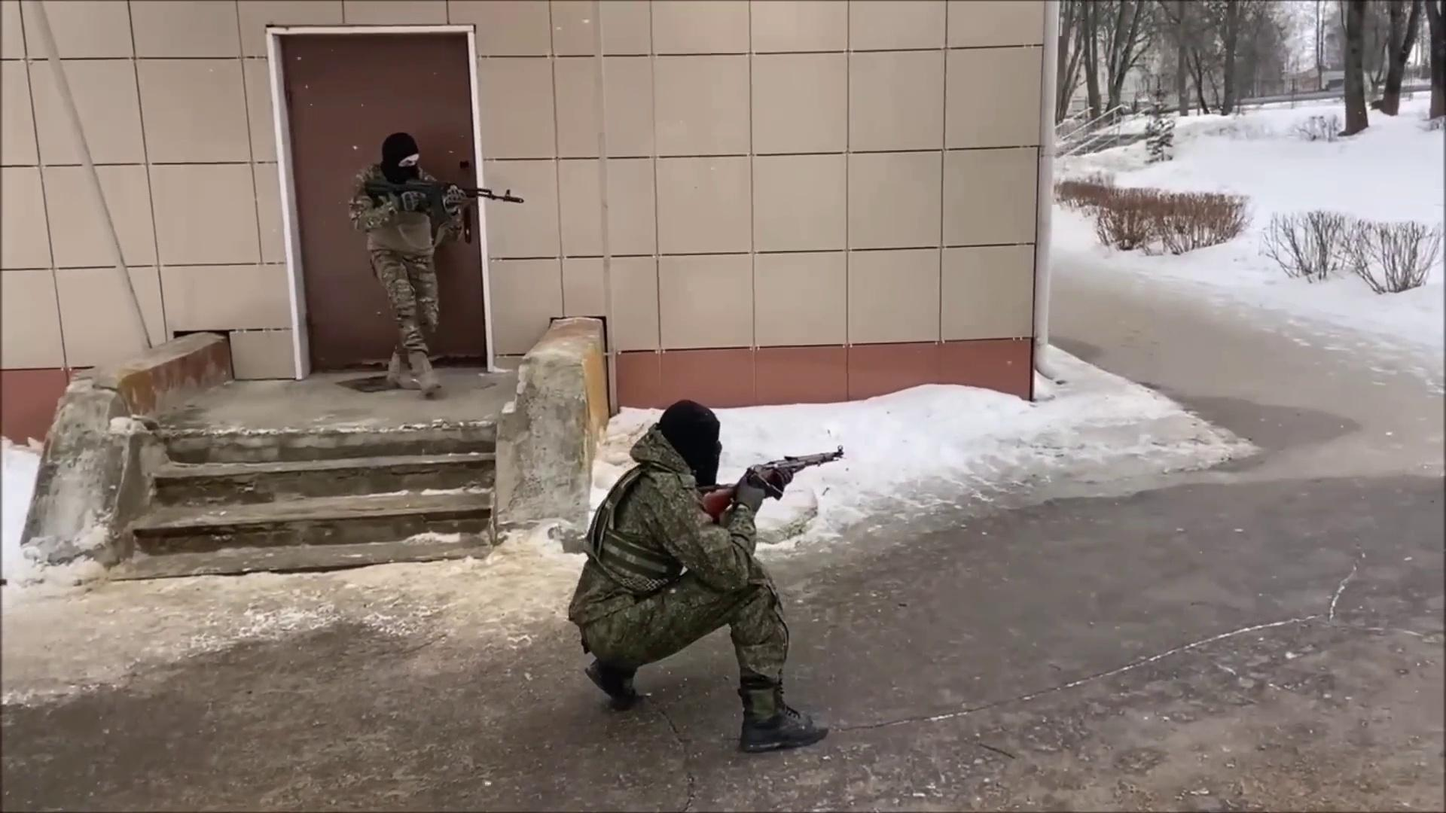person: (566, 399, 832, 756), (346, 131, 468, 398)
rifle: (697, 443, 845, 522)
